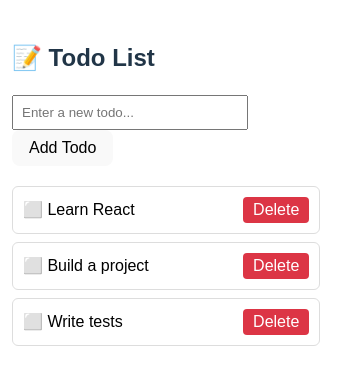
Test: allows a user to add a new todo
In the field with test id "new-todo-input": (130, 113) left=12, top=96, right=248, bottom=130, type "New test todo"
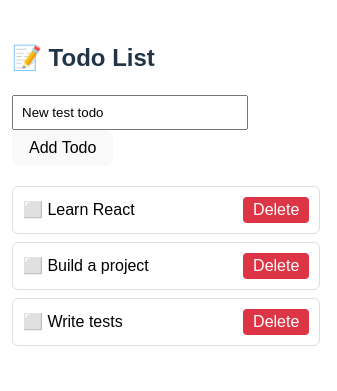
Click the button with test id "add-todo-button": (63, 148) left=12, top=130, right=113, bottom=166
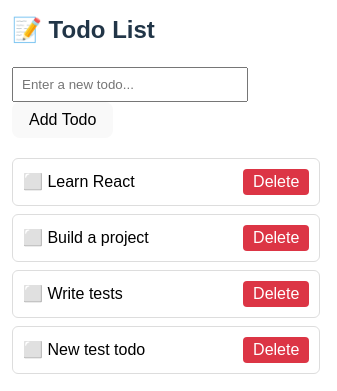
Now the text "⬜ New test todo" is shown, box left=23, top=338, right=145, bottom=362
